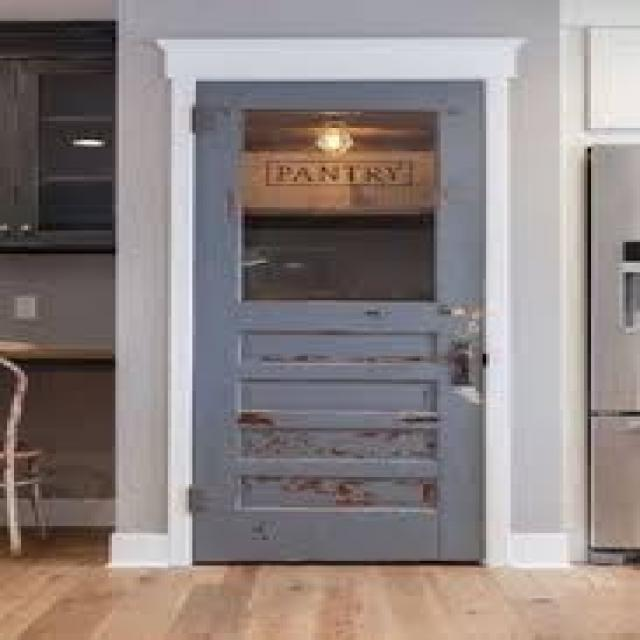Chair: (0, 343, 70, 573)
Door: (181, 70, 503, 571)
